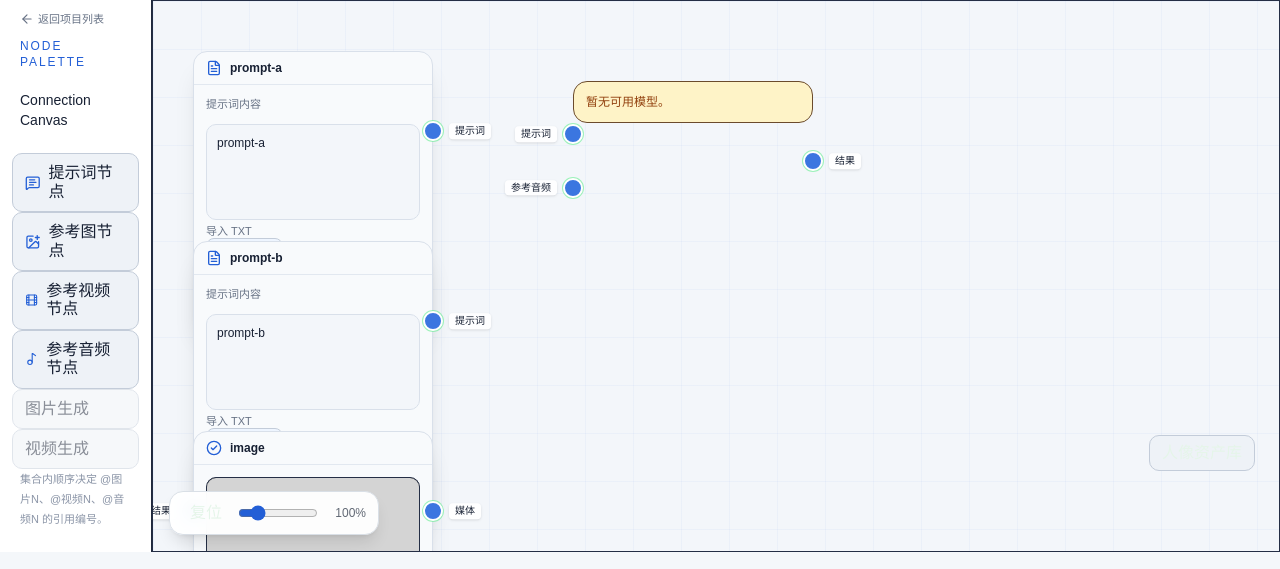
Test: canvas named-port interactions › announces the self rejection while keeping a valid source available for retry
The image size is (1280, 569).
Click the button with aria-label "model：结果输出端口": (813, 161) left=803, top=151, right=823, bottom=171
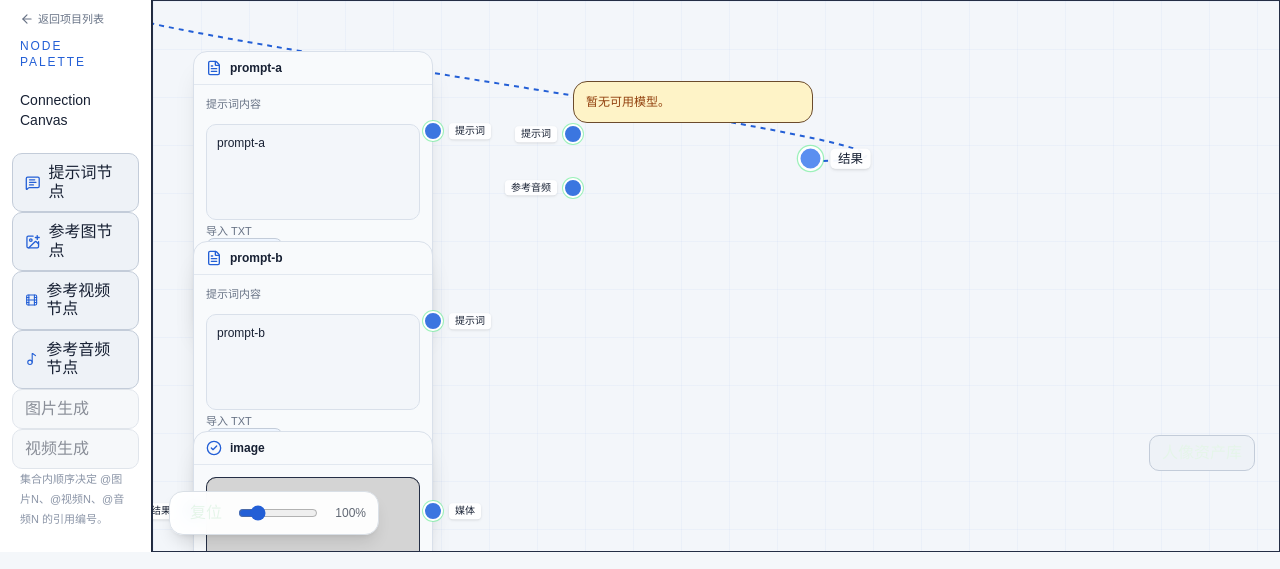
Click the button with aria-label "model：提示词输入端口": (573, 134) left=563, top=124, right=583, bottom=144
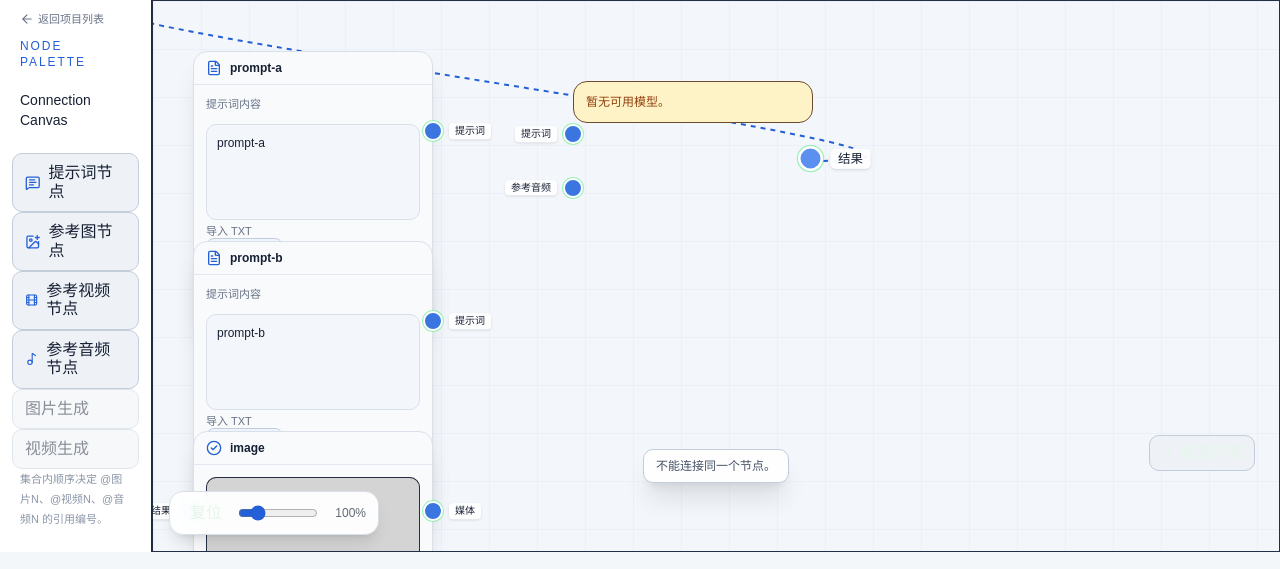
Now the message with test id "connection-status" reads "不能连接同一个节点。", box left=656, top=459, right=776, bottom=473
